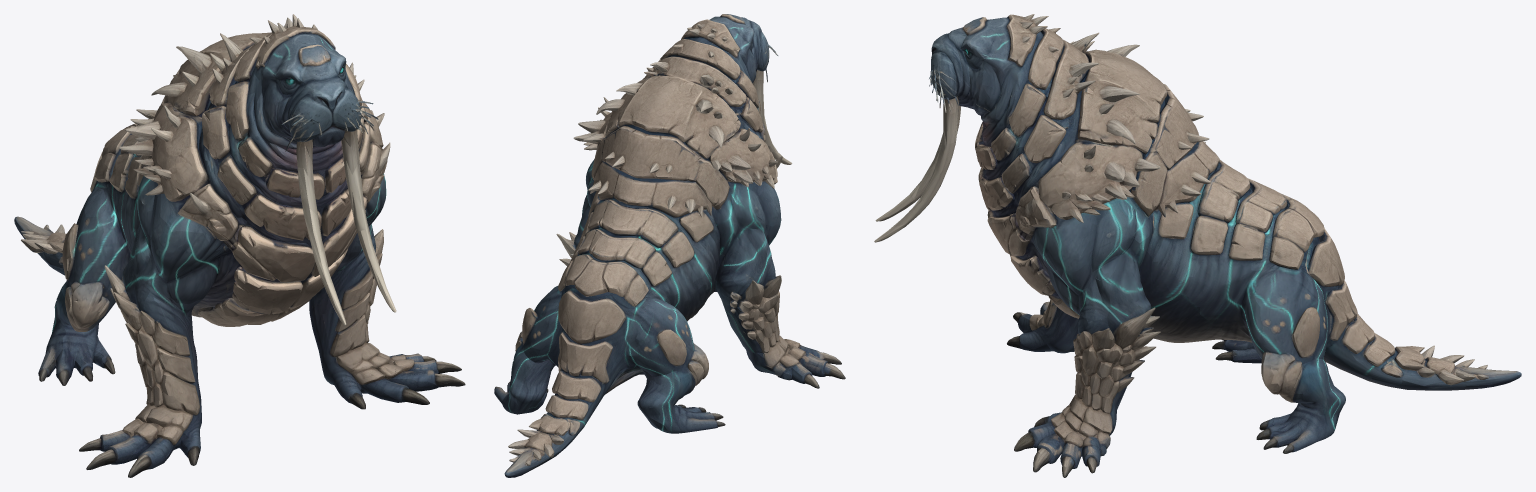
File: riptusk_a.glb
3 renders of one model, left to right at view 1: azimuth 30°, elevation 25°; view 2: azimuth 150°, elevation 25°; view 3: azimuth 270°, elevation 25°, orthographic. The views are drawn at different scales.
Parts seen in each view (by area): view 1: Mesh_0; view 2: Mesh_0; view 3: Mesh_0.
Boxes of the visible parts, x1,y1,x2,y2 form: Mesh_0: (14, 14, 465, 477); Mesh_0: (494, 14, 845, 477); Mesh_0: (874, 14, 1521, 477).
Bounding box in the file's own units: 1.19 × 1.22 × 1.9.
1 material, 1 textured.
